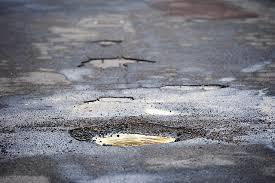pothole: (75, 120, 198, 151), (76, 55, 155, 73), (160, 81, 226, 93), (85, 94, 136, 106), (92, 38, 120, 47)
